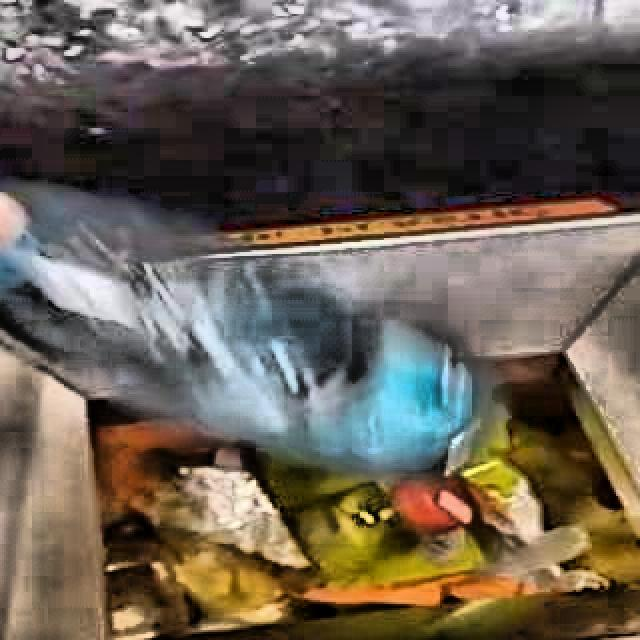plastic: (0, 188, 485, 479)
